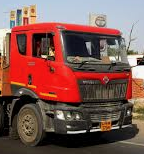truck: (1, 18, 138, 151)
